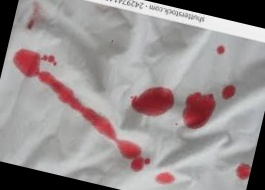blood: (1, 46, 126, 136), (128, 82, 177, 121), (180, 89, 216, 132), (111, 138, 149, 171), (234, 162, 251, 182), (220, 83, 238, 101), (157, 171, 175, 186), (216, 44, 227, 56)
